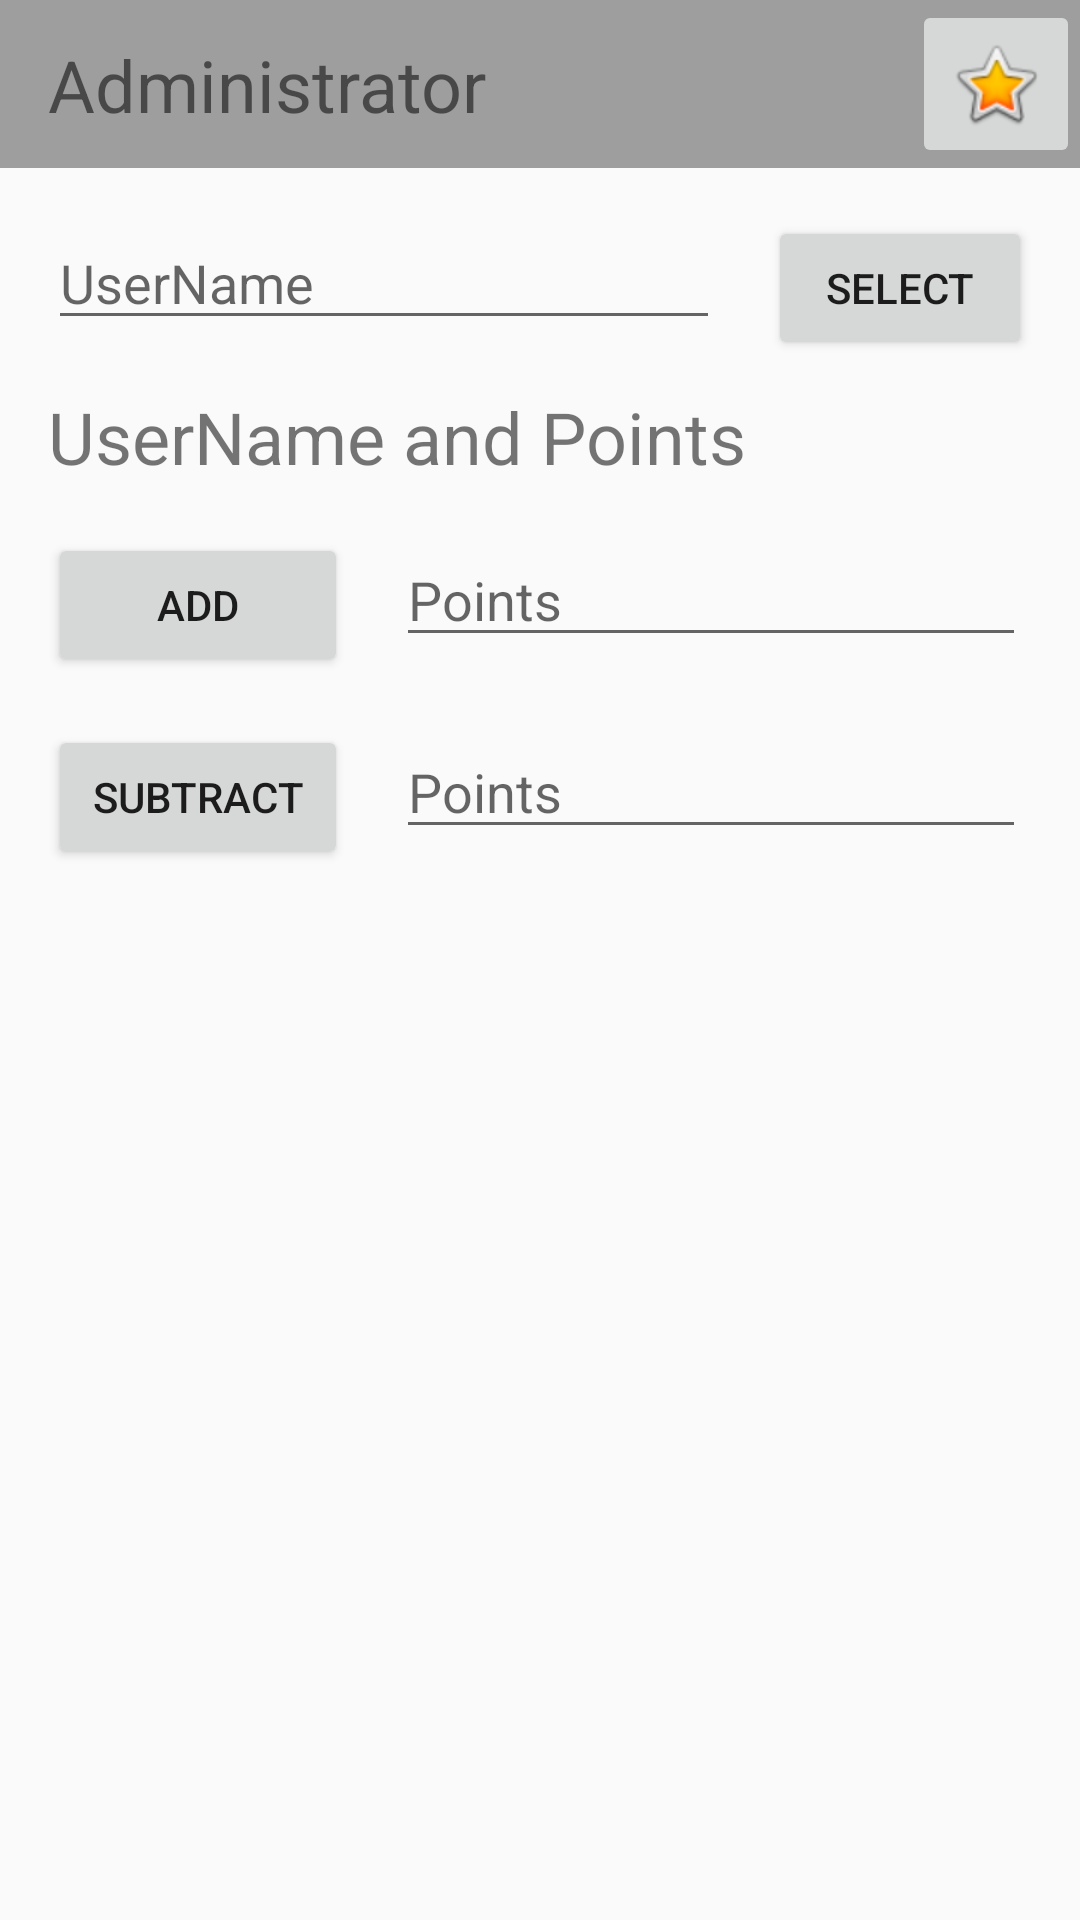

Named icons in this screenshot (1080px x 1920px) and their bounding boxes, (x1, y1, x2, y2):
star on: (924, 18, 1068, 150)
